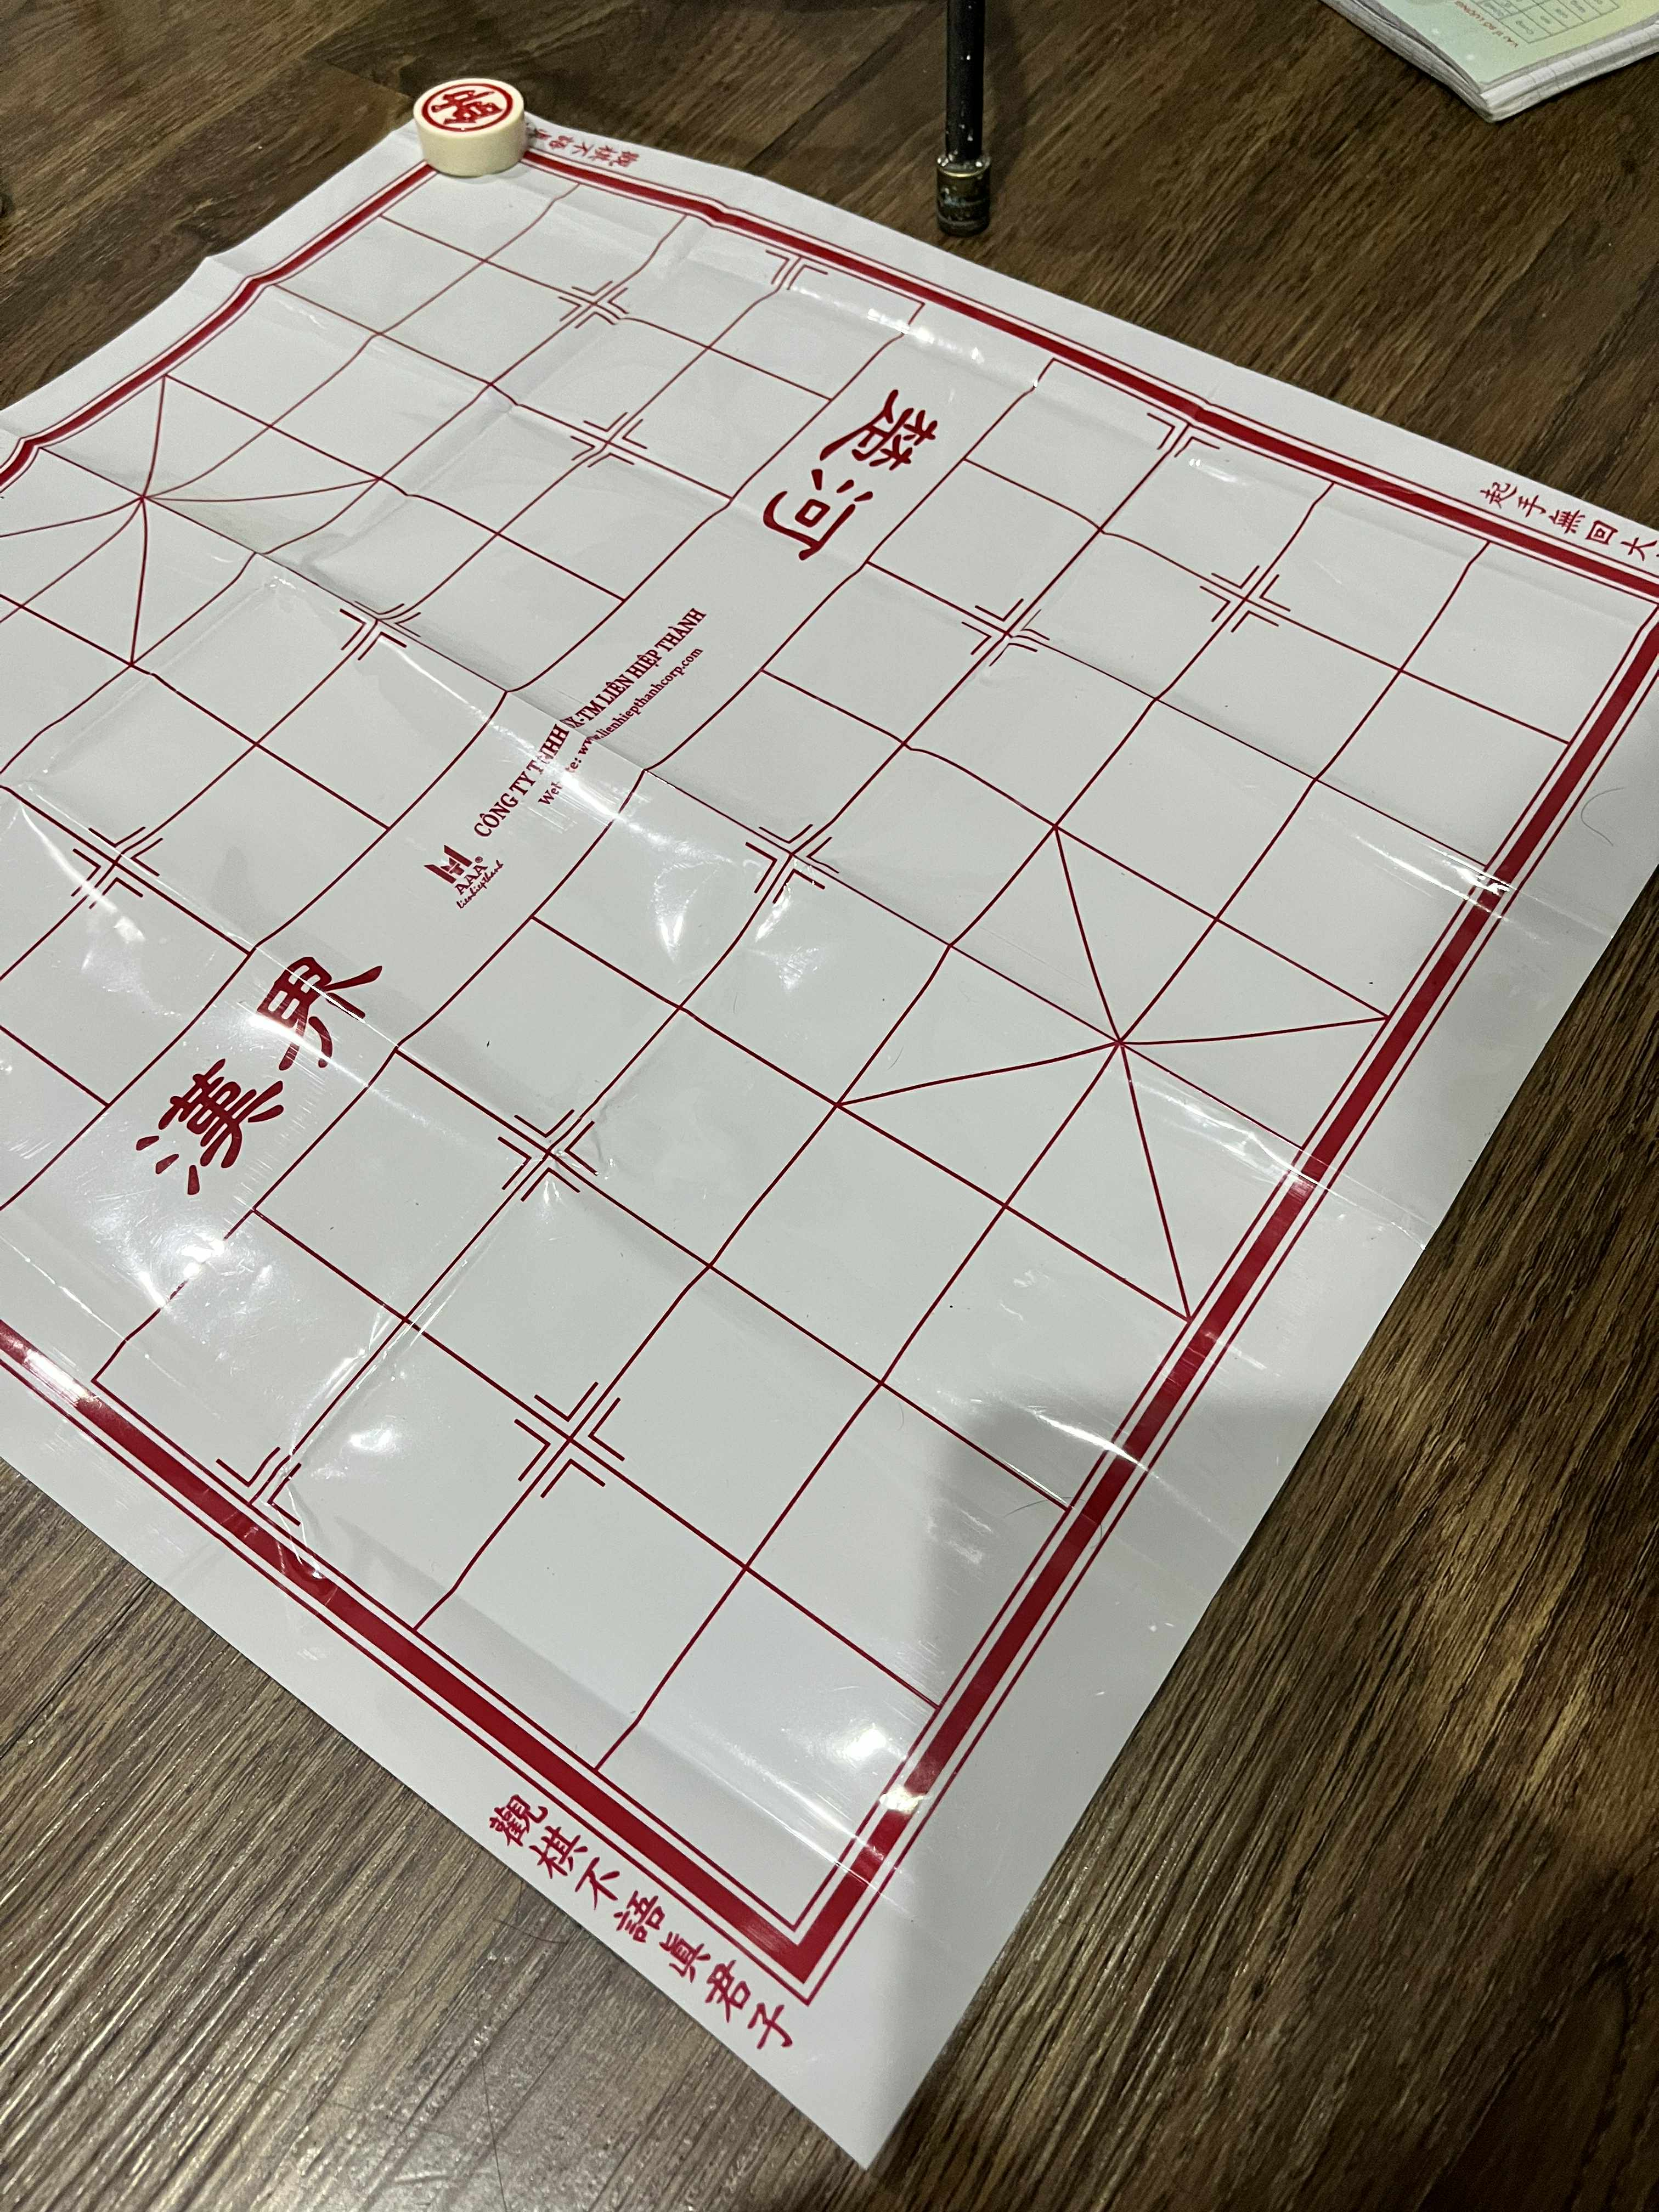red-general: (413, 78, 526, 138)
